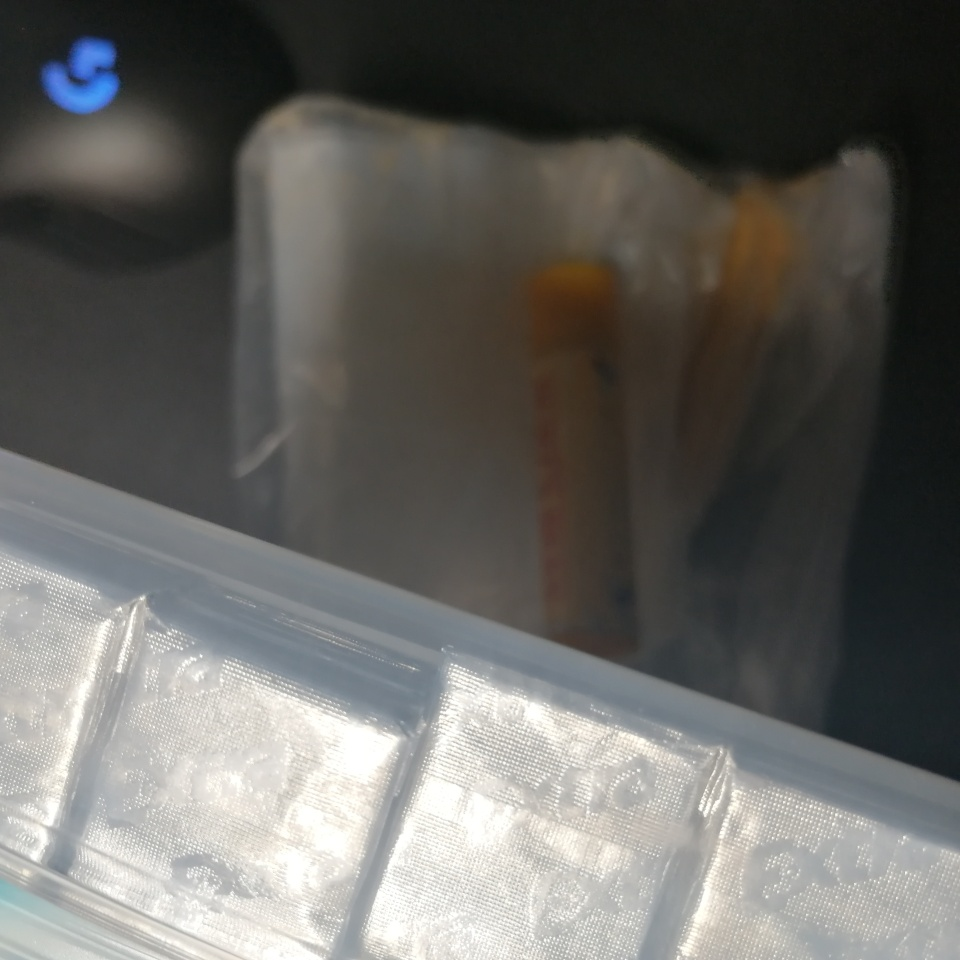chapstick: (524, 262, 641, 654)
